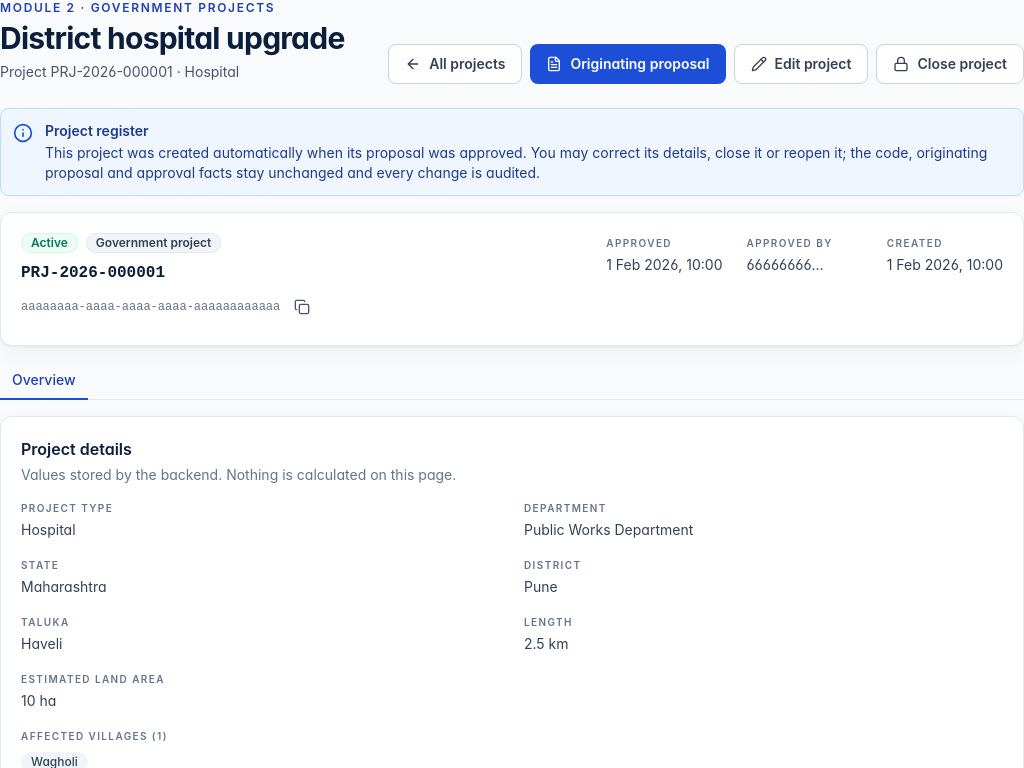
ProjectDetailsPage › lets a project manager close and reopen the project
This screenshot has width=1024, height=768.
Click the button "Close project" at (950, 64), box [876,44,1023,84]
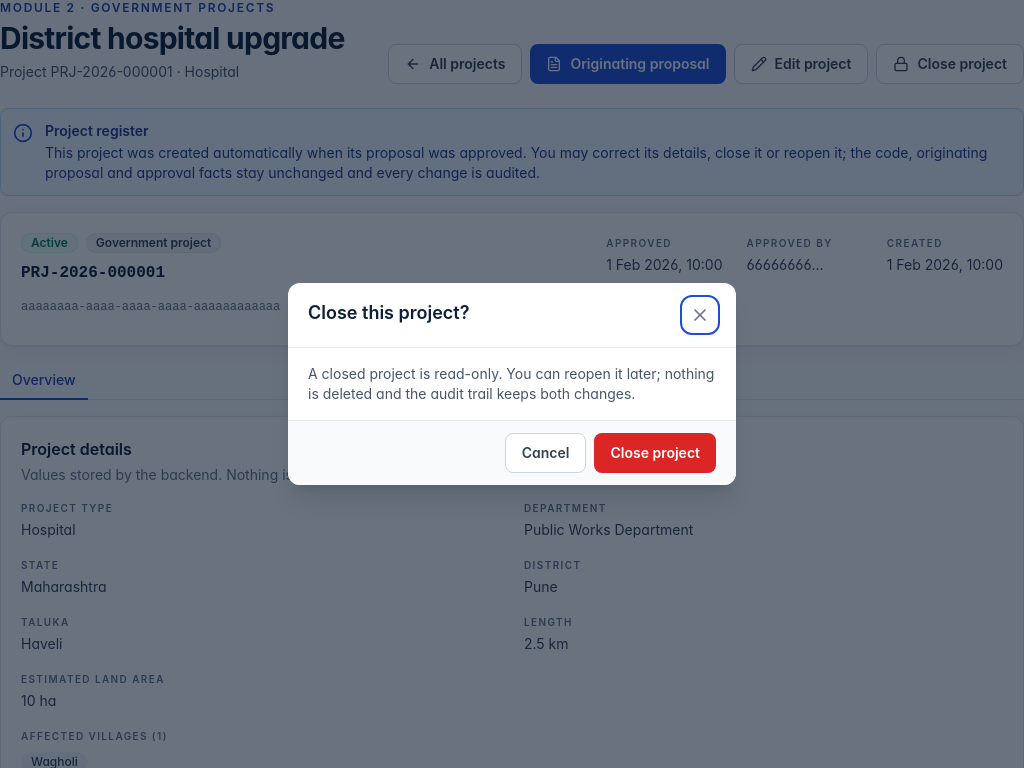
Click the button "Close project" at (655, 453), box [594,433,716,473]
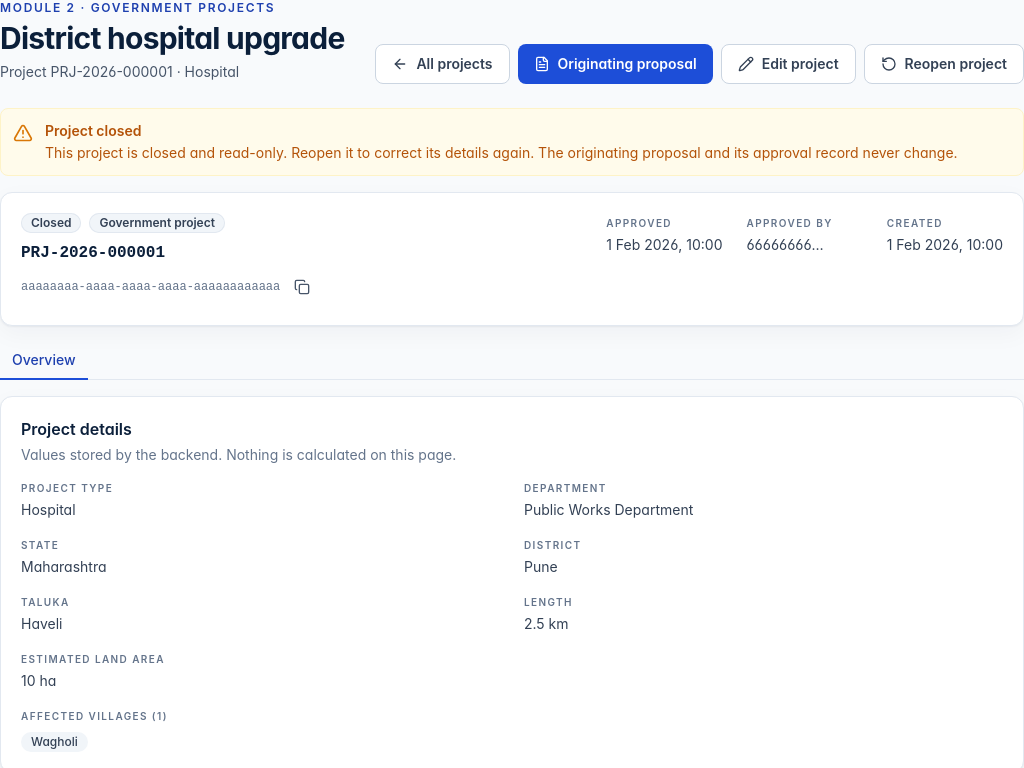
expect the button "Reopen project" is shown: met
expect the text "Project closed" is shown: met, box [45,122,141,139]
Click the button "Reopen project" at (944, 64), box [864,44,1023,84]
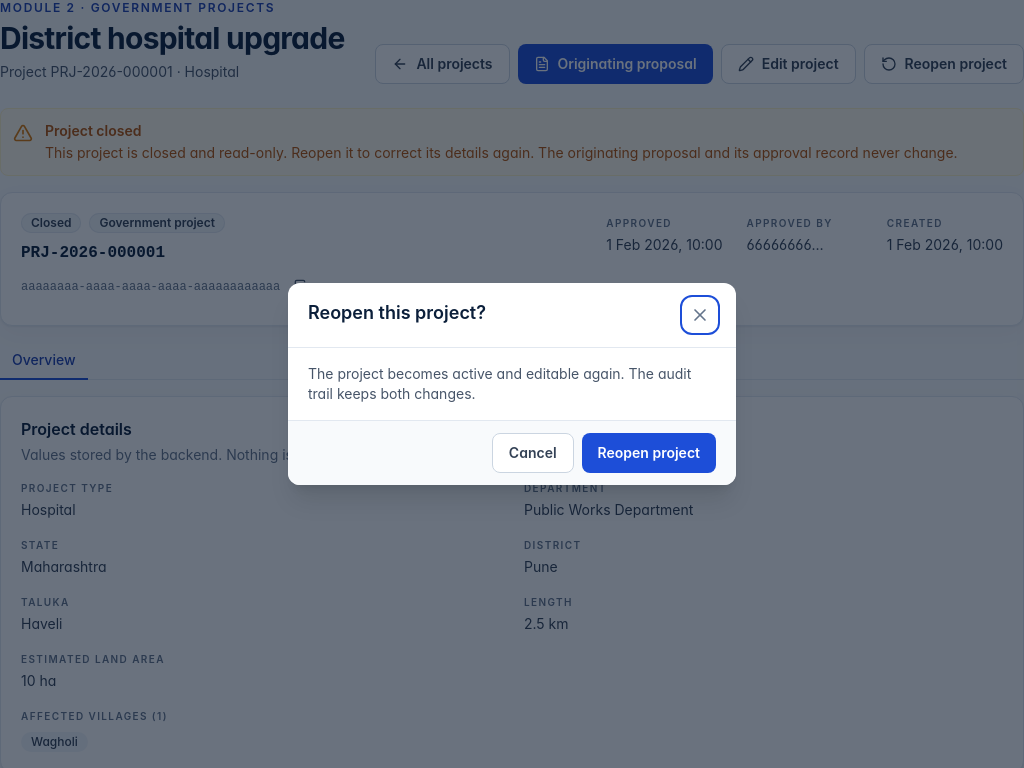
Click the button "Reopen project" at (649, 453), box [582,433,716,473]
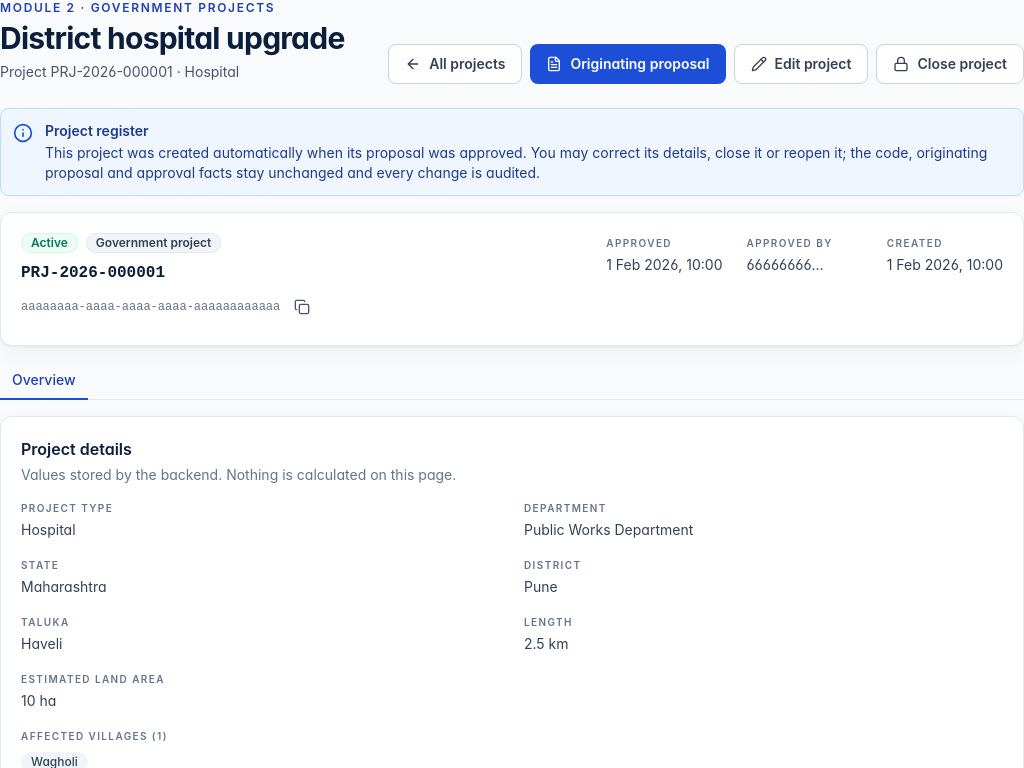
expect the button "Close project" is shown: met, box [876,44,1023,84]
